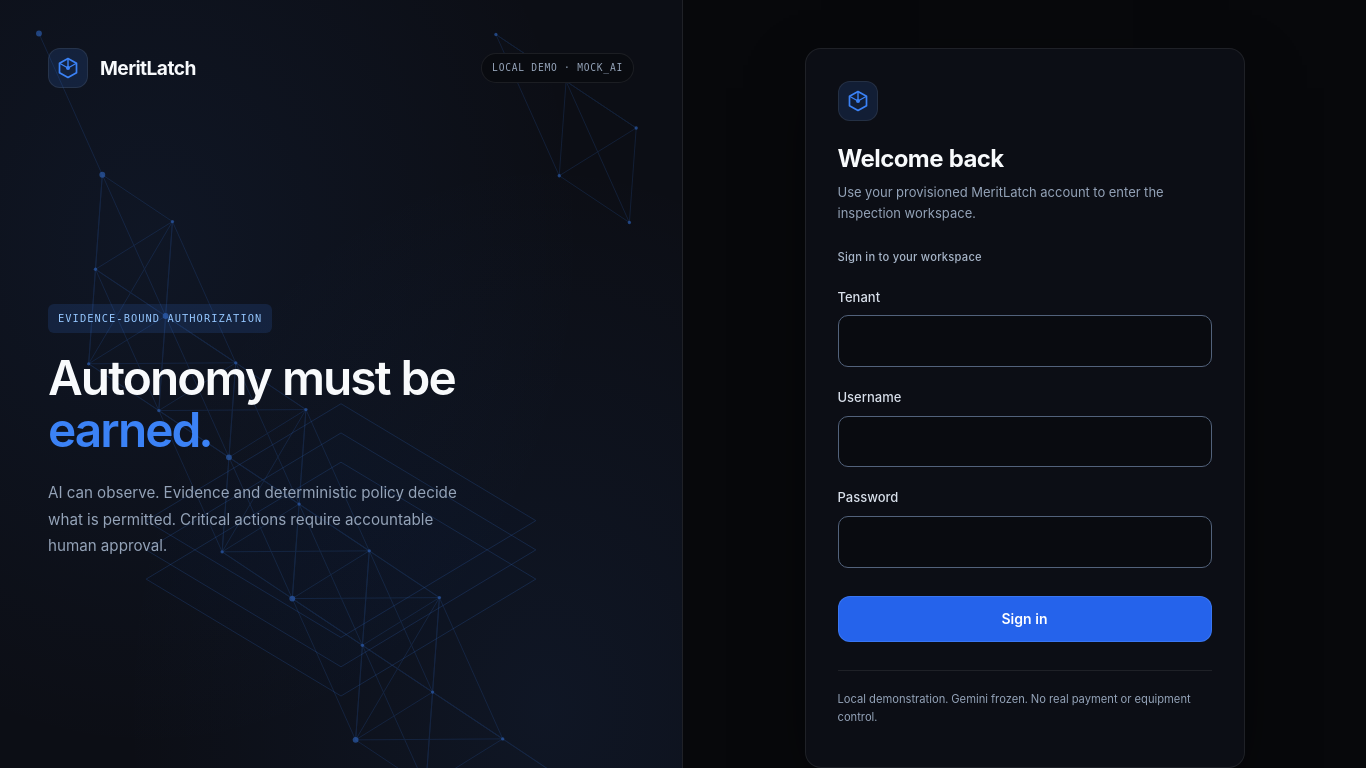
it: routes actual MANAGER identity
Type "a" into the field labelled "Tenant" at (1024, 341), box [838,315,1212,367]
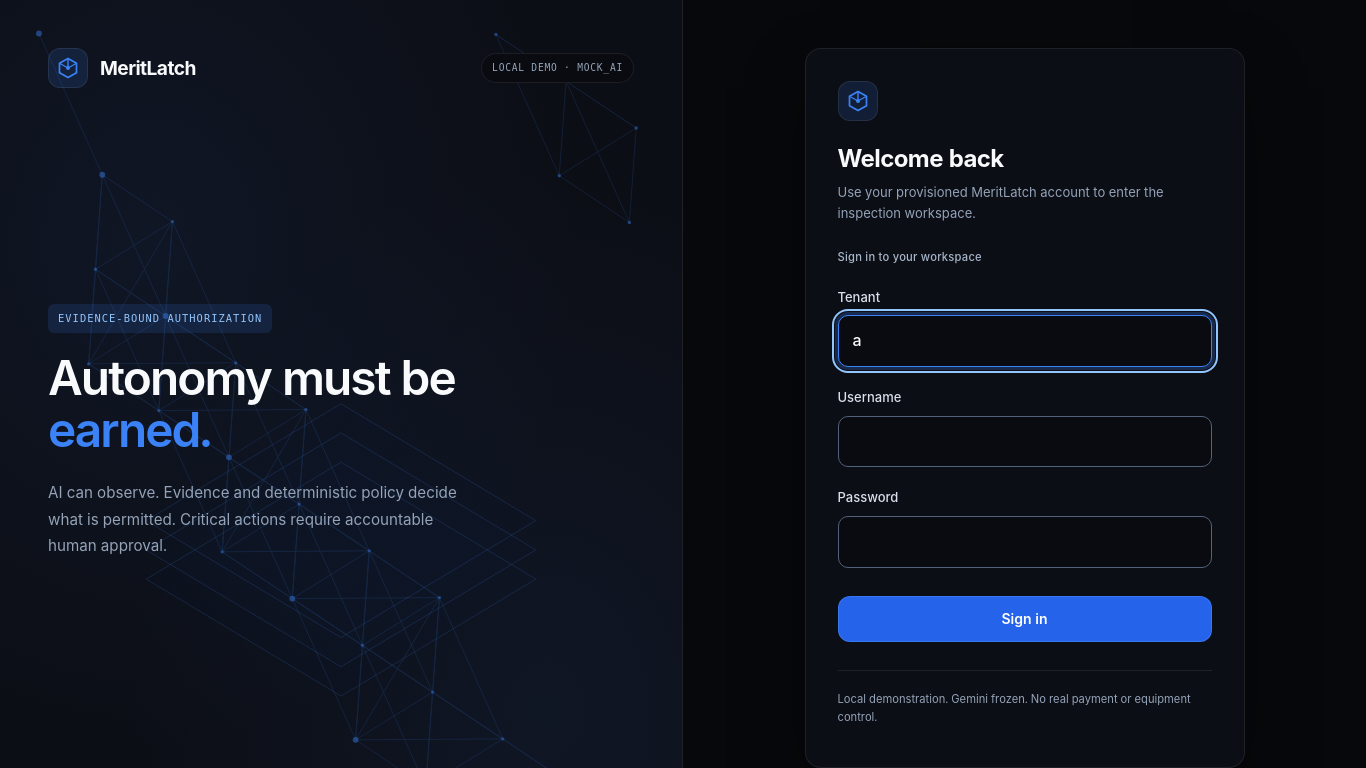
Type "fictional" into the field labelled "Username" at (1024, 442), box [838,416,1212,467]
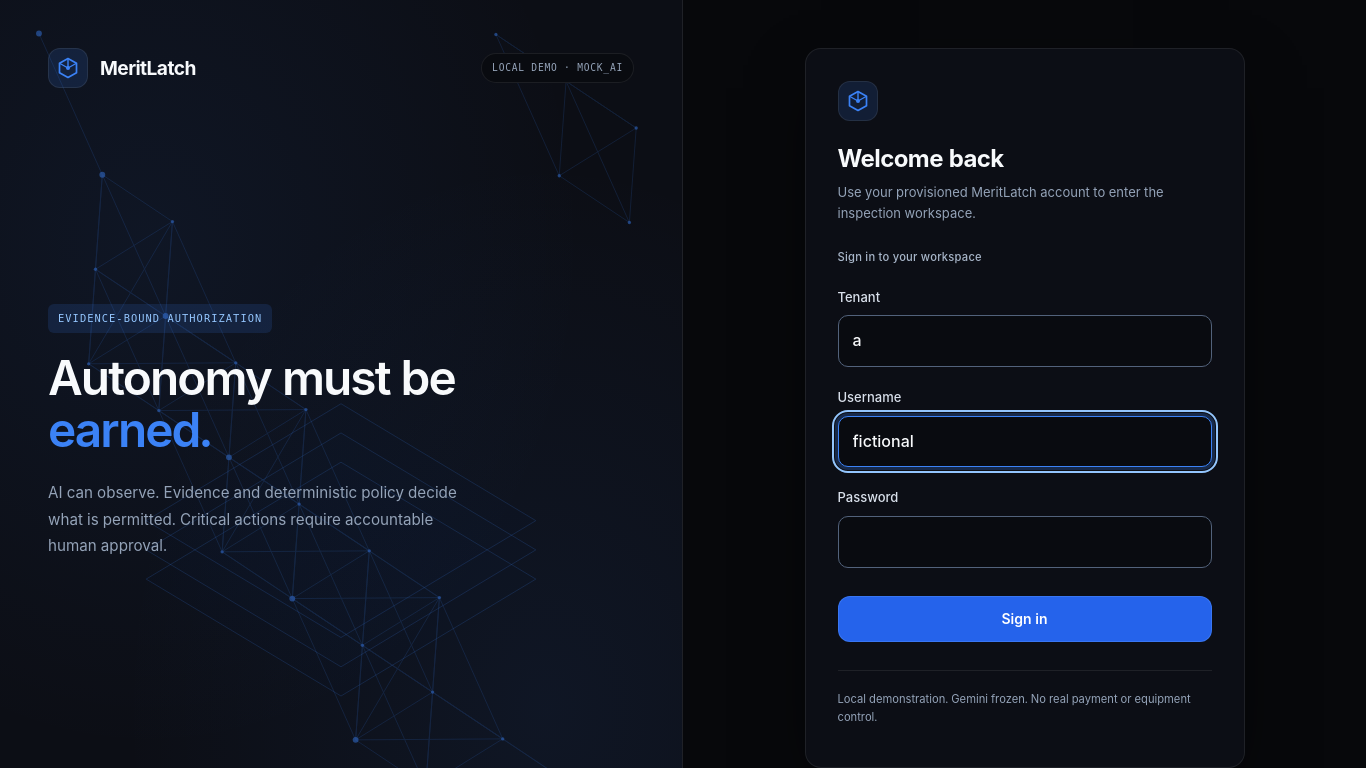
Type "fictional-password" into the password field labelled "Password" at (1024, 542), box [838,516,1212,568]
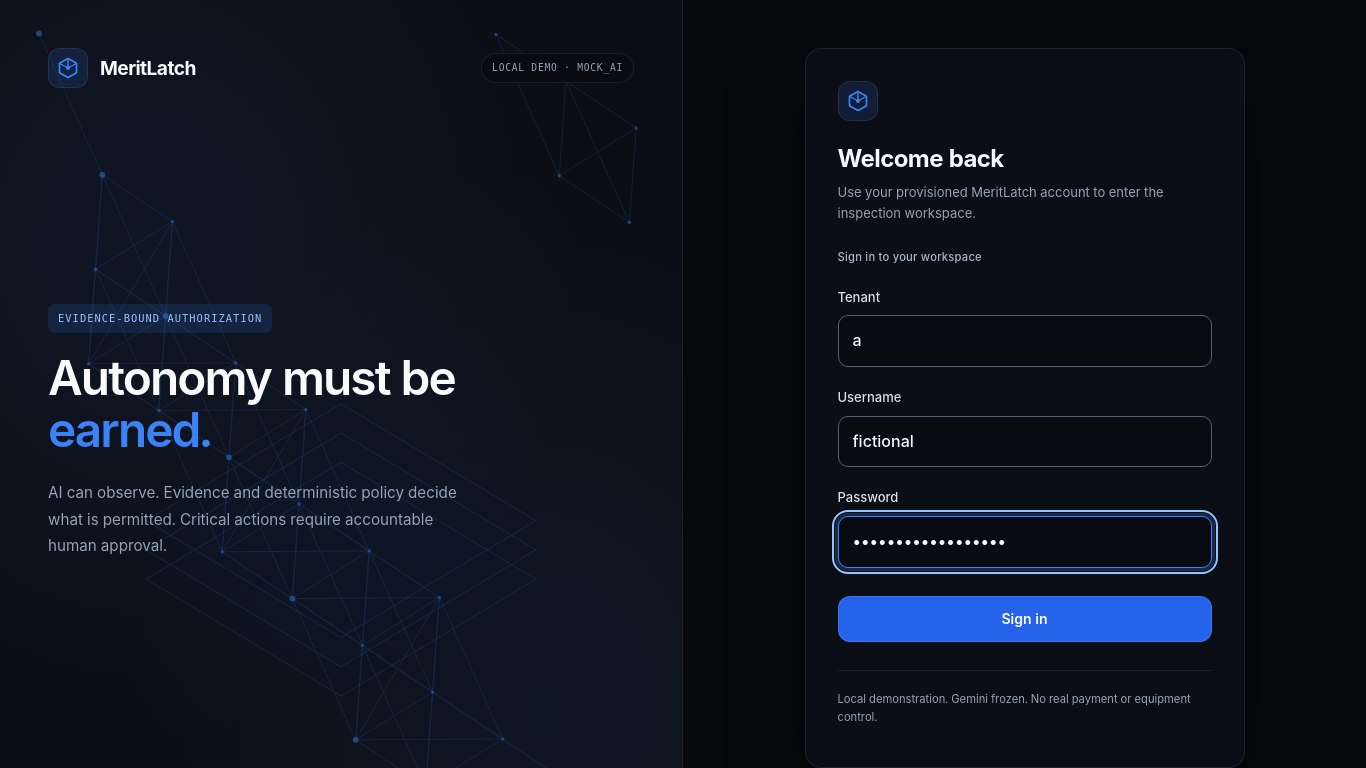
Click the button "Sign in" at (1024, 619), box [838,596,1212,642]
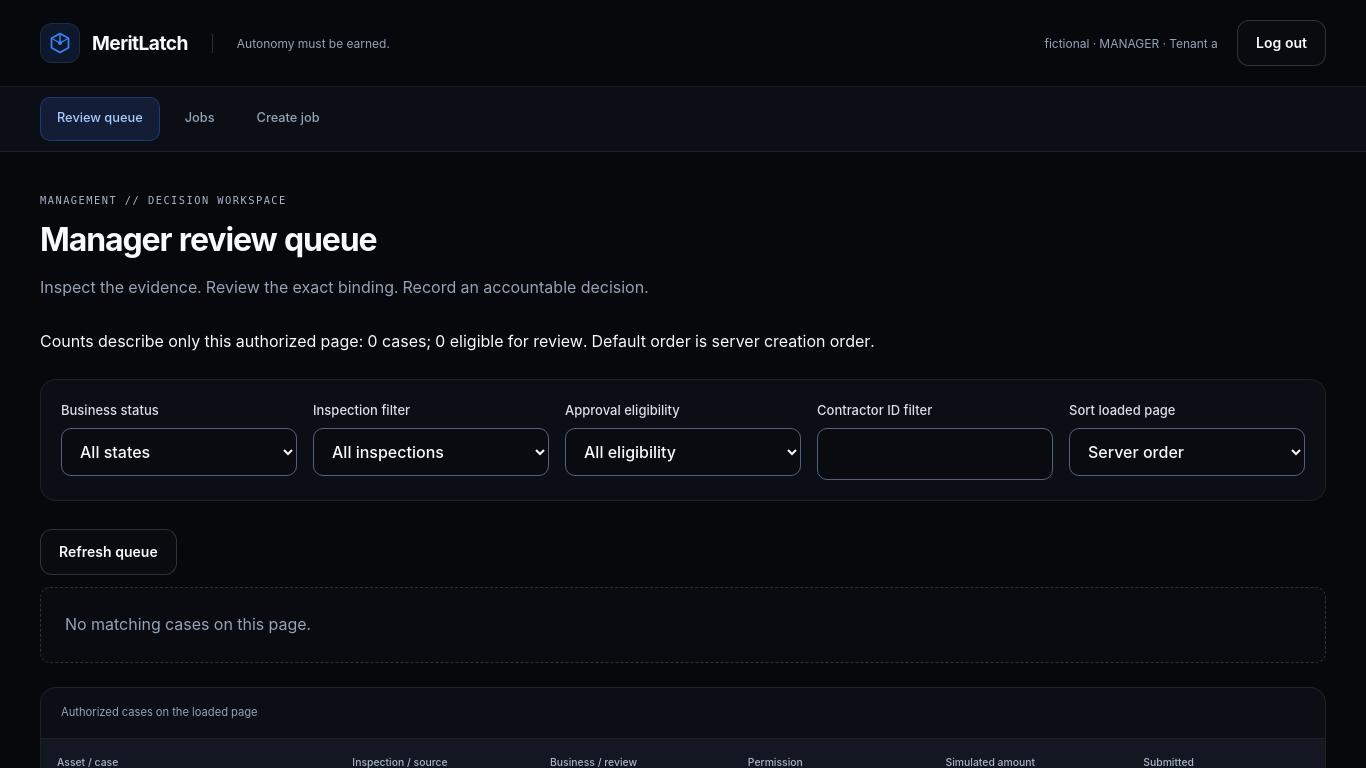
Check: the heading "Manager review queue" is shown, box [40,220,377,259]
